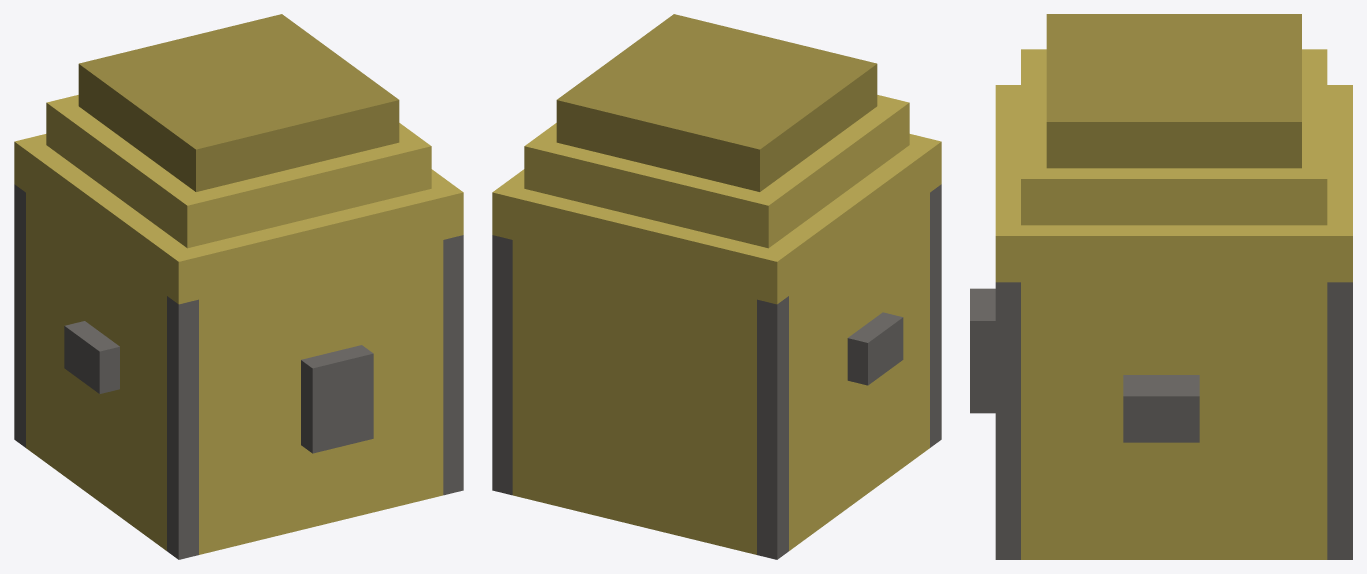
File: baul_tesoro_01.glb
3 renders of one model, left to right at view 1: azimuth 30°, elevation 25°; view 2: azimuth 150°, elevation 25°; view 3: azimuth 270°, elevation 25°, orthographic. The views are drawn at different scales.
Visible parts, largest first — view 1: baul_tesoro; view 2: baul_tesoro; view 3: baul_tesoro.
Boxes of the visible parts, x1,y1,x2,y2 form: baul_tesoro: (14,14,463,559); baul_tesoro: (492,14,941,559); baul_tesoro: (970,14,1352,559).
Size of the model in its own units: 1.21 by 1.29 by 1.07.
